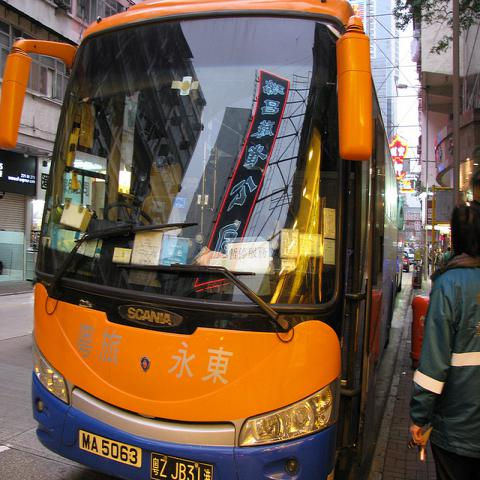bus: (0, 1, 404, 474)
